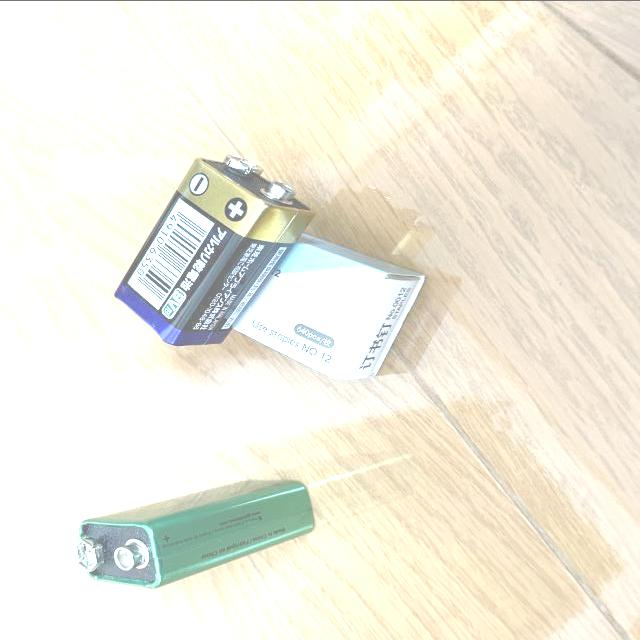9V: (114, 154, 317, 344), (75, 479, 317, 587)
